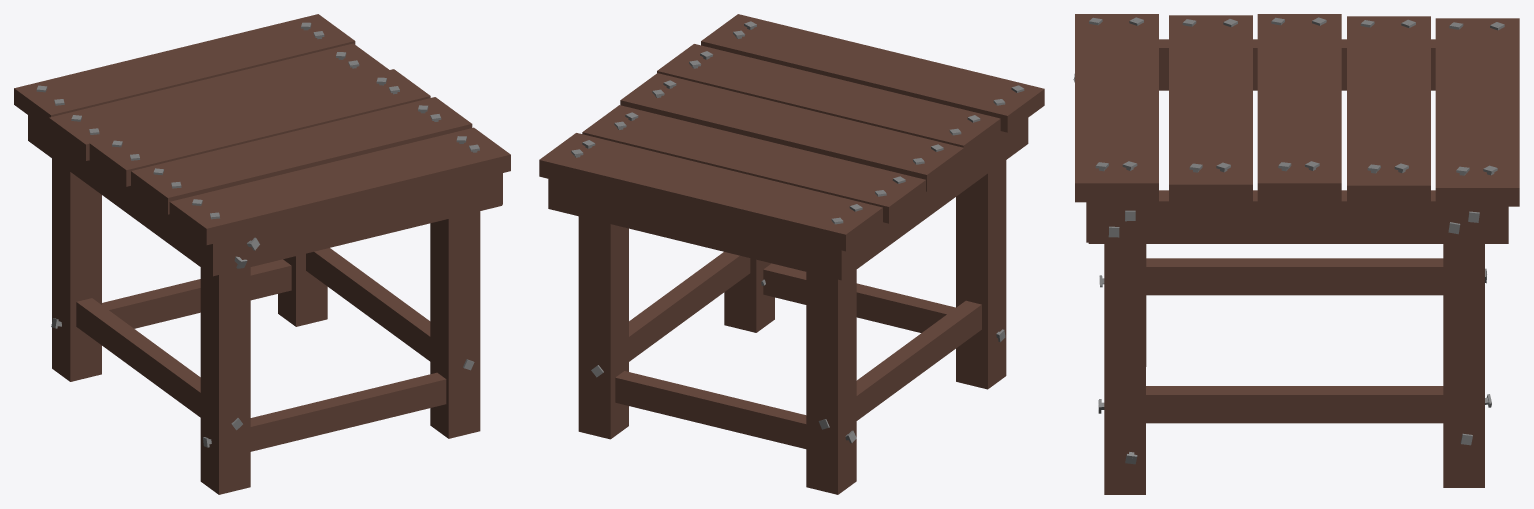
The picture shows the model from 3 angles, left to right: view 1: azimuth 30°, elevation 25°; view 2: azimuth 150°, elevation 25°; view 3: azimuth 270°, elevation 25°; orthographic projection. The views are drawn at different scales.
Parts seen in each view (by area): view 1: node_MeshObject-2145538688-PolyPaper20; view 2: node_MeshObject-2145538688-PolyPaper20; view 3: node_MeshObject-2145538688-PolyPaper20.
Part boxes in pixels (left/top/right/bottom): node_MeshObject-2145538688-PolyPaper20: left=14, top=14, right=510, bottom=494; node_MeshObject-2145538688-PolyPaper20: left=539, top=14, right=1044, bottom=494; node_MeshObject-2145538688-PolyPaper20: left=1073, top=14, right=1519, bottom=494.
Size of the model in its own units: 0.7786 by 0.692 by 0.8559.
